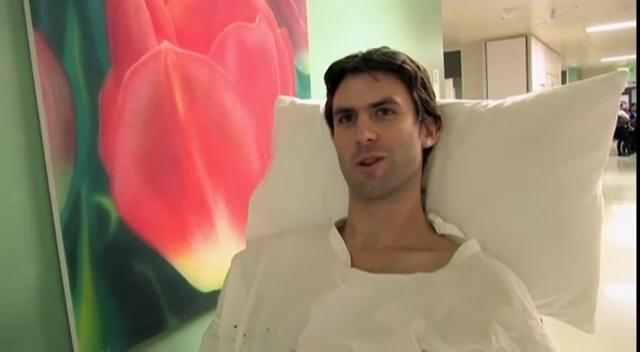others: (612, 97, 635, 157)
patient: (197, 45, 561, 350)
